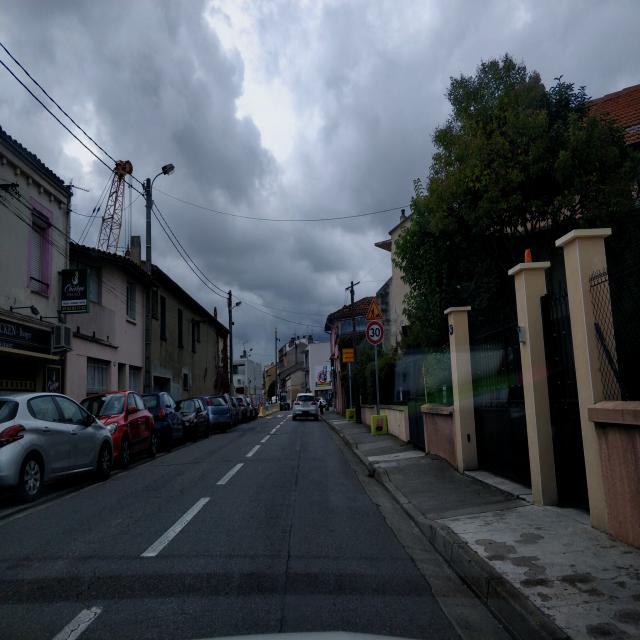car: (0, 389, 114, 505), (80, 388, 158, 469), (141, 390, 186, 451), (175, 397, 211, 442), (205, 394, 232, 432), (292, 392, 319, 421), (220, 392, 238, 428), (234, 393, 251, 422), (278, 392, 290, 411), (247, 396, 256, 420), (316, 396, 326, 414)
